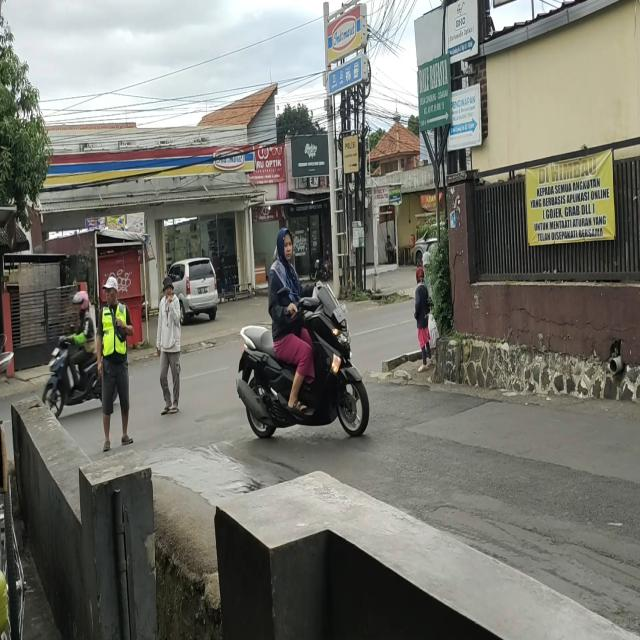helmet: (74, 292, 90, 316)
no-helmet: (278, 226, 292, 266)
